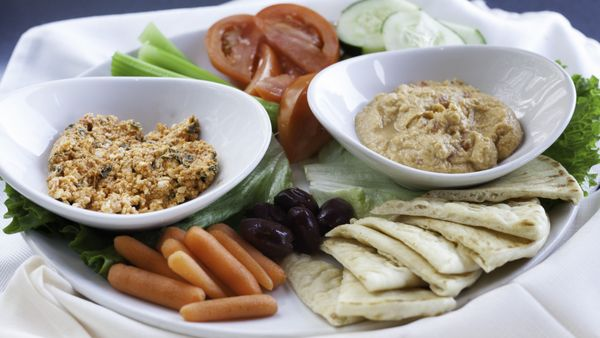sushi: (0, 75, 276, 232), (307, 43, 578, 189)
